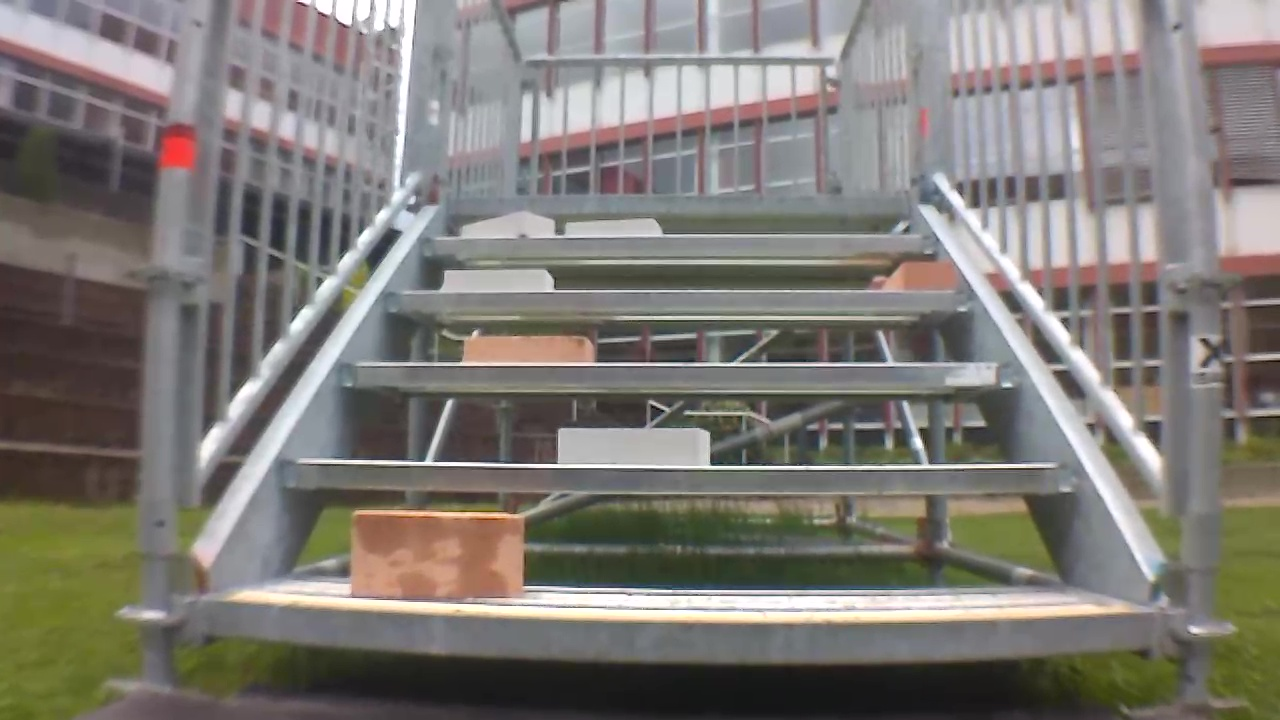brick: (350, 510, 522, 599), (557, 428, 710, 465), (462, 337, 593, 364), (461, 210, 554, 237), (445, 270, 552, 291), (885, 261, 955, 291), (564, 219, 660, 236)
edge: (204, 602, 1152, 661), (279, 461, 1075, 494), (340, 364, 1016, 390), (385, 290, 976, 310), (420, 236, 942, 256), (447, 193, 913, 215)
stairs: (116, 1, 1232, 705)
steps: (191, 189, 1156, 668)
